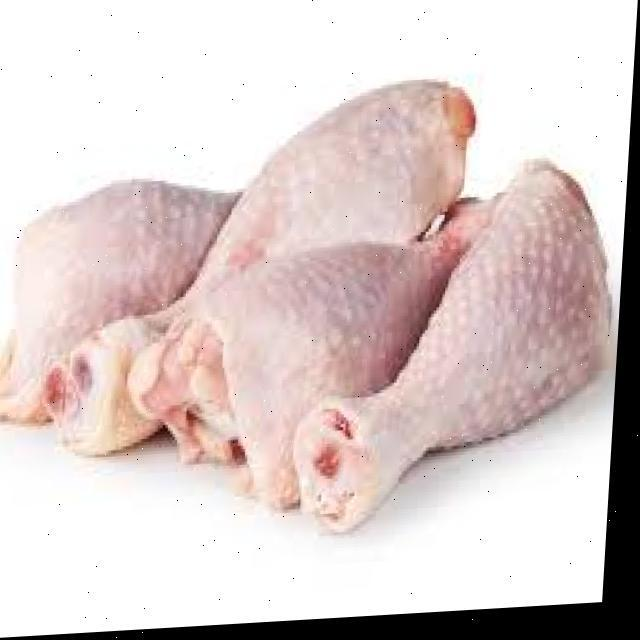leg: (55, 92, 471, 464), (288, 167, 630, 514), (188, 196, 490, 480), (0, 171, 236, 405)
